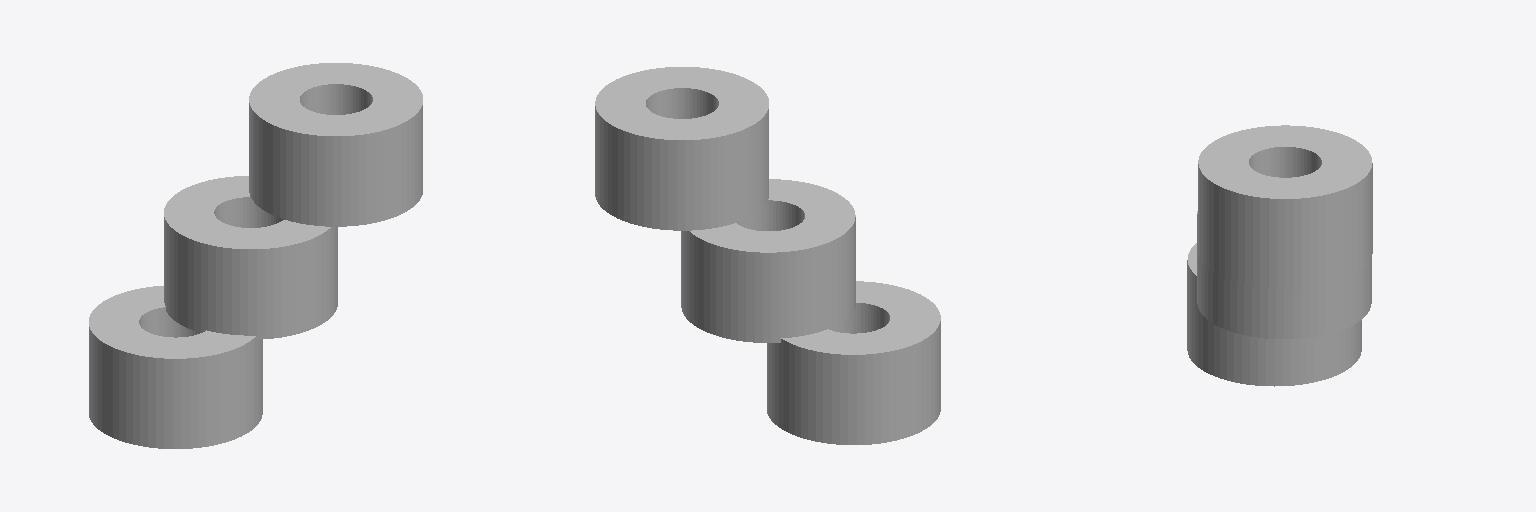
File: rouleaux.obj
3 views of the same model, side by side, from view 1: azimuth 30°, elevation 25°; view 2: azimuth 150°, elevation 25°; view 3: azimuth 270°, elevation 25° (orthographic).
Parts seen in each view (by area): view 1: Tube, Tube.1, Tube.2; view 2: Tube, Tube.1, Tube.2; view 3: Tube, Tube.2, Tube.1.
Boxes of the visible parts, x1,y1,x2,y2 form: Tube: [249, 63, 422, 226]; Tube.1: [164, 176, 337, 339]; Tube.2: [89, 286, 262, 448]; Tube: [595, 67, 768, 230]; Tube.1: [681, 179, 855, 342]; Tube.2: [767, 281, 940, 444]; Tube: [1198, 125, 1372, 288]; Tube.2: [1187, 243, 1361, 386]; Tube.1: [1197, 211, 1371, 338].
Bounding box in the file's own units: 1247 × 1009 × 631.